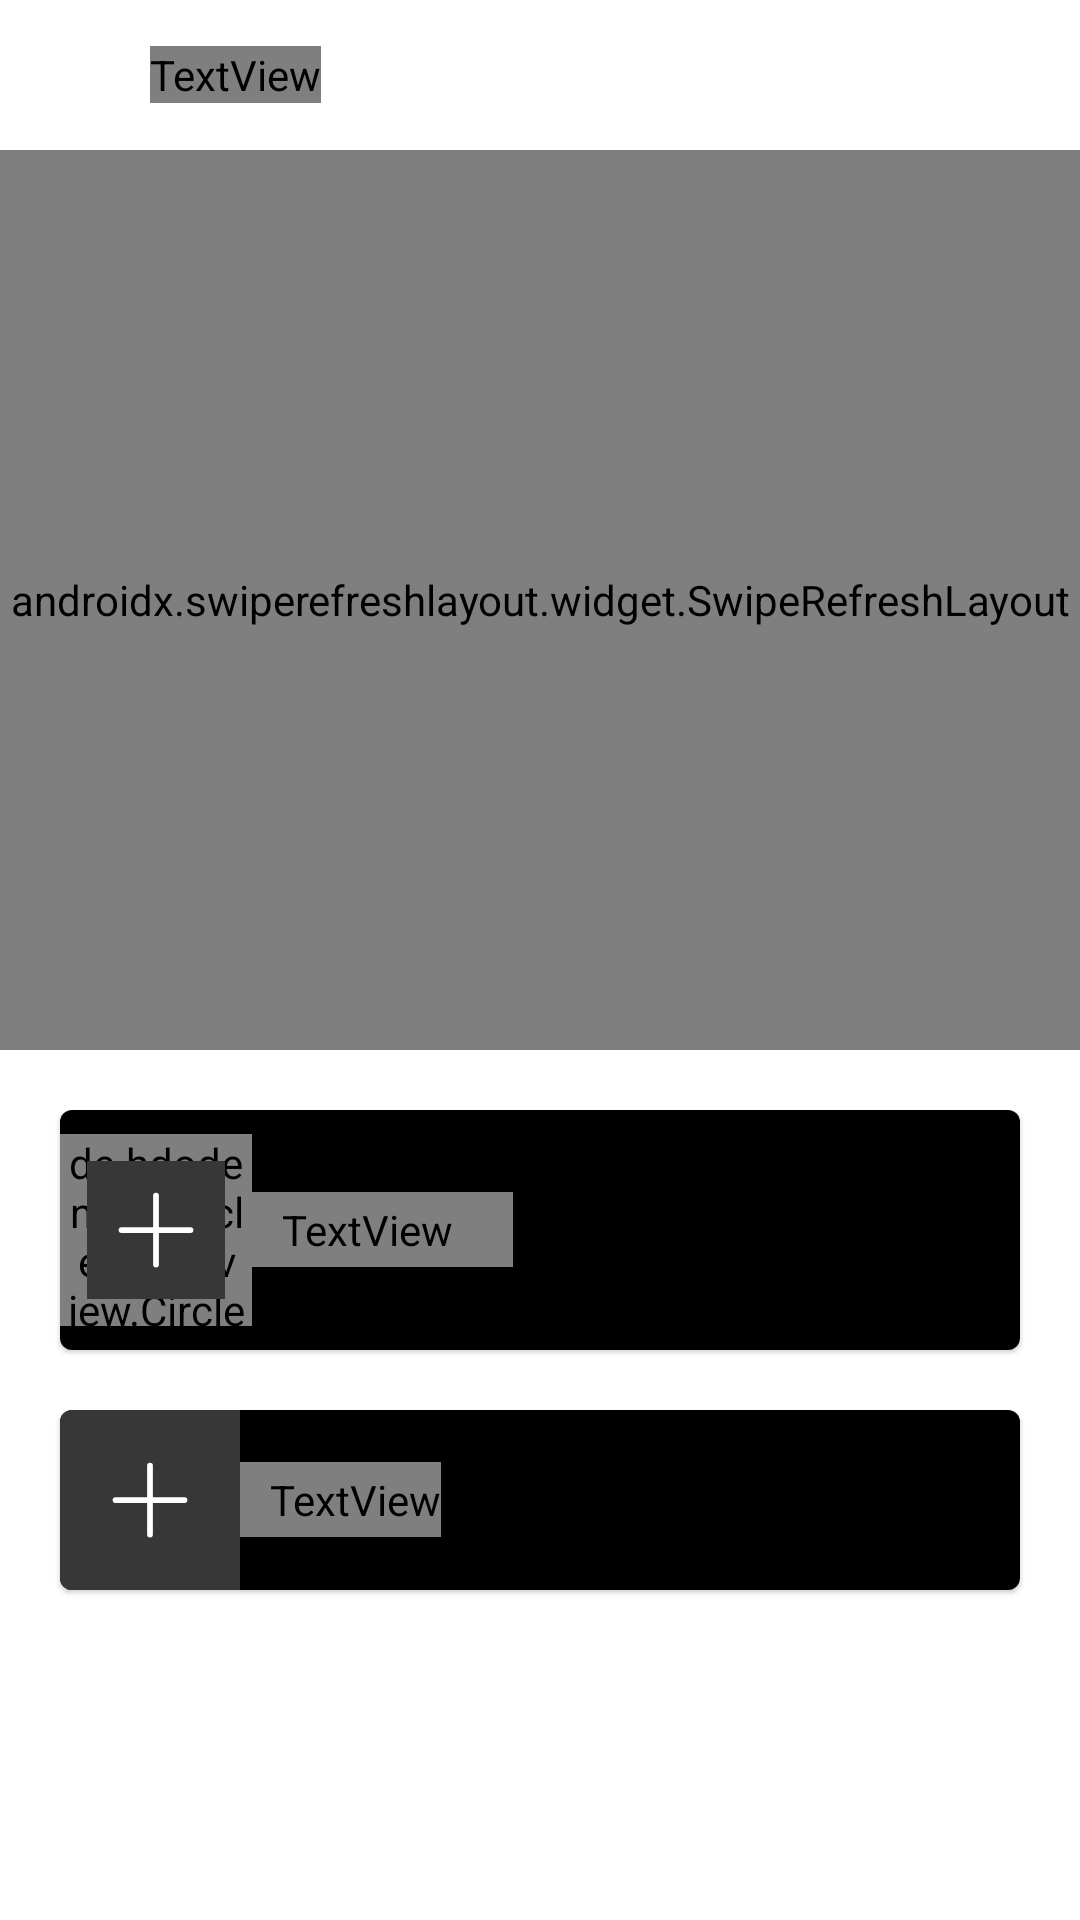

Locate icon controls on the screen. Image size 1080w x 1920h, boxes as (x1, y1, x2, y2).
plus for add: (87, 1161, 225, 1299), (112, 1462, 188, 1538)
